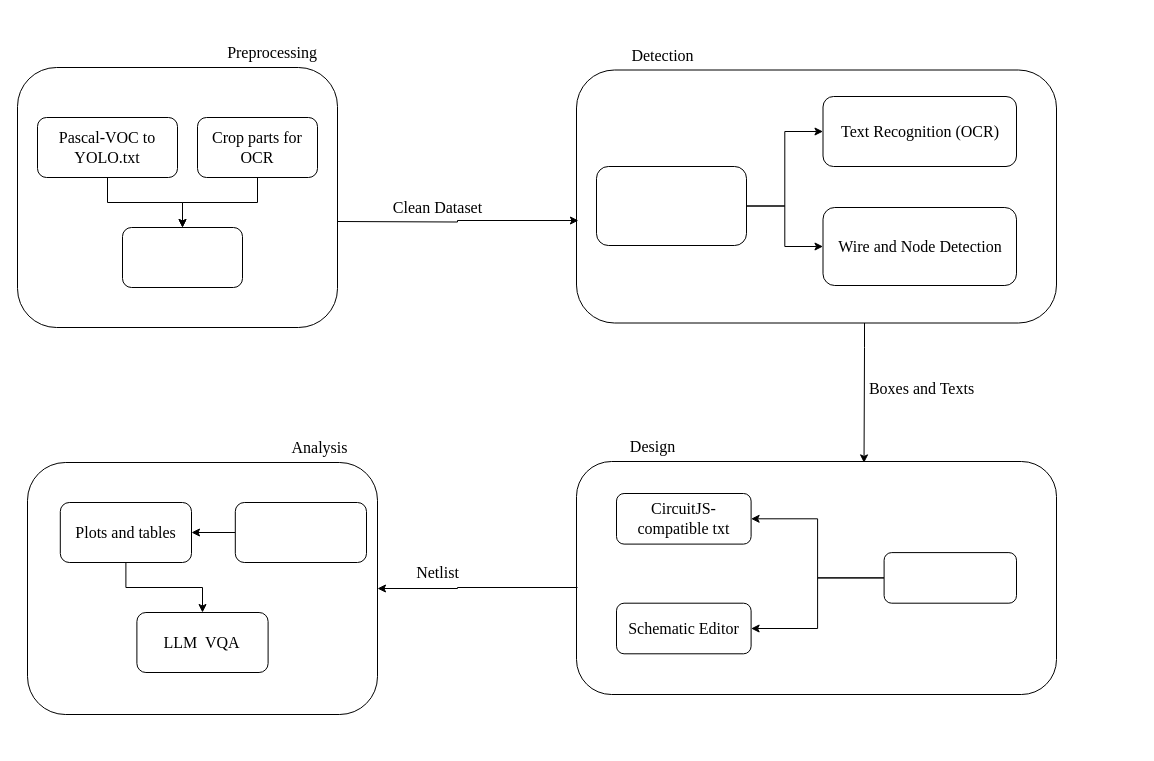
Some shapes in this 1154 by 761 pixel diagram are drawn without their labels. Each missing label, with the box of its shape:
Augmentation: (122, 226, 242, 288)
CircuitJS Simulation: (234, 502, 366, 562)
Component and Text Detection (YOLOv7): (596, 166, 746, 246)
Integrated Data Structure: (883, 552, 1016, 603)
